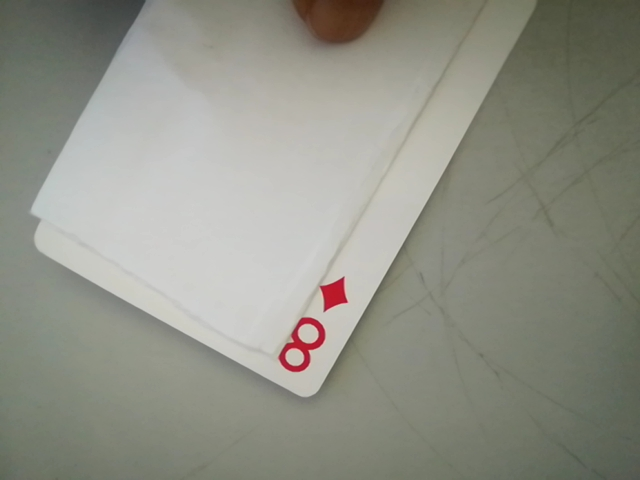fk 8: (268, 275, 352, 390)
